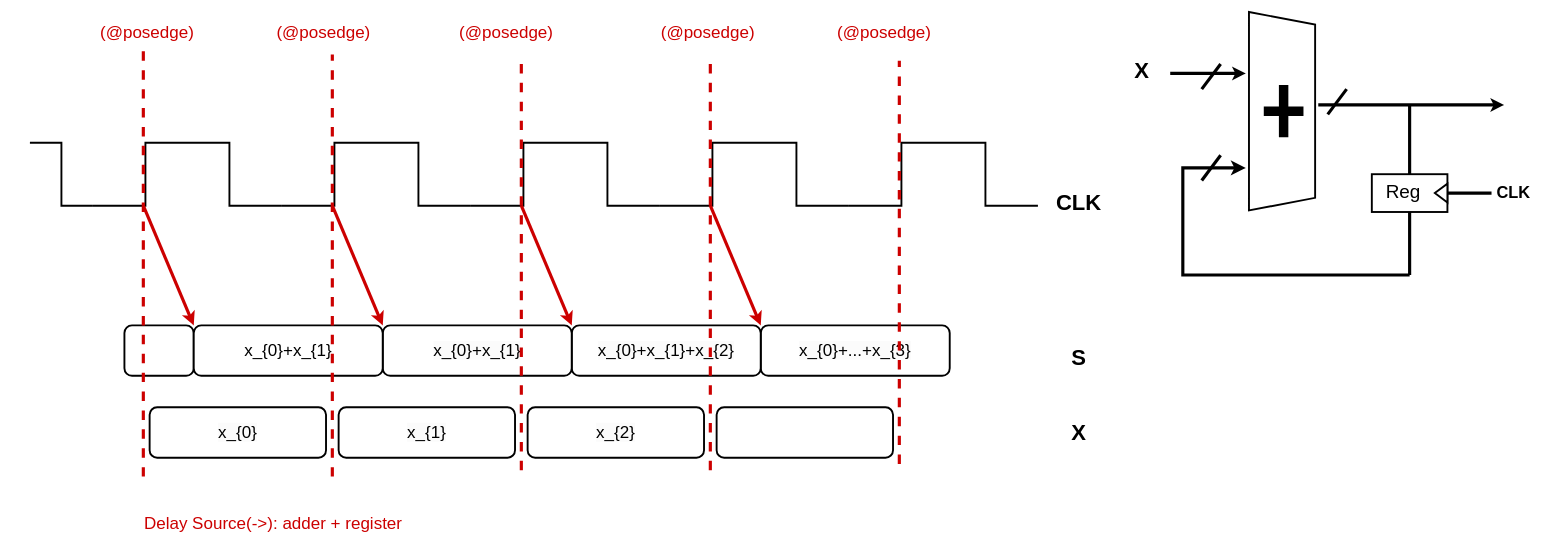
Image size: 1552x550. Some labels were removed from this diagram. The centre of each missing label's shape, as x and y in pixels:
"undef" belongs at (158,350).
"x_{3}" belongs at (804,432).
